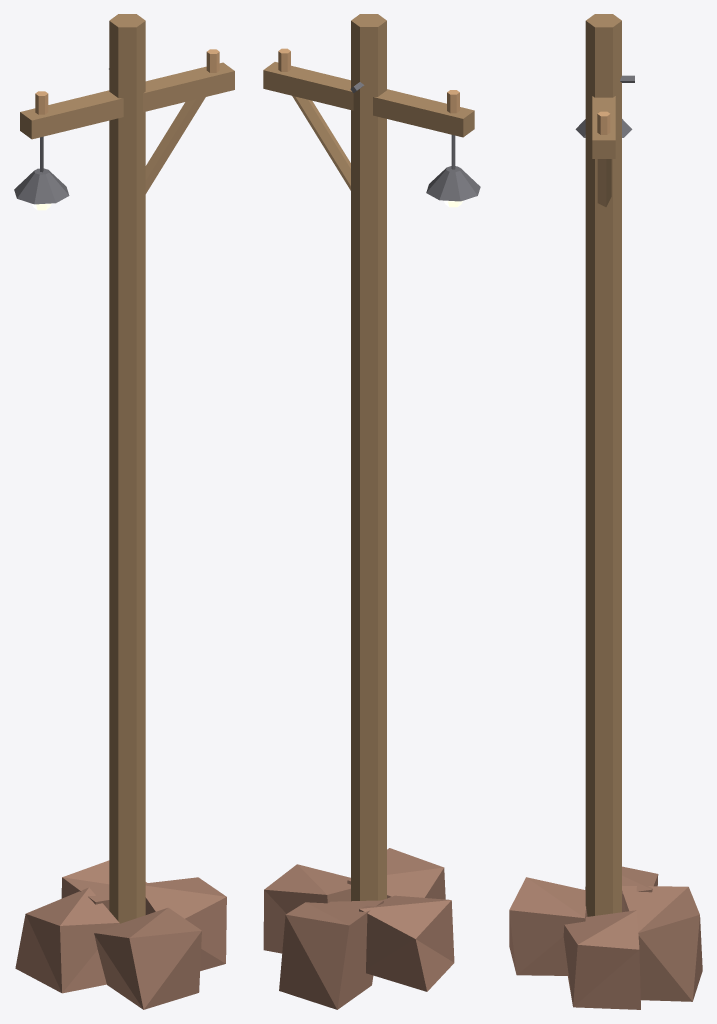
The model's file is lobby_light_post.glb.
3 renders of one model, left to right at view 1: azimuth 30°, elevation 25°; view 2: azimuth 150°, elevation 25°; view 3: azimuth 270°, elevation 25°, orthographic.
Visible parts, largest first — view 1: LobbyLightPost; view 2: LobbyLightPost; view 3: LobbyLightPost.
Part boxes in pixels (<box>): LobbyLightPost: <box>14,14,234,1009</box>; LobbyLightPost: <box>263,14,480,1009</box>; LobbyLightPost: <box>509,14,702,1009</box>.
Size of the model in its own units: 0.94 by 4.08 by 0.7473.
